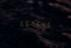five: (48, 20, 53, 28)
four: (42, 20, 47, 28)
seven: (30, 19, 35, 27)
six: (17, 19, 22, 27), (23, 19, 28, 27), (36, 20, 41, 28)
